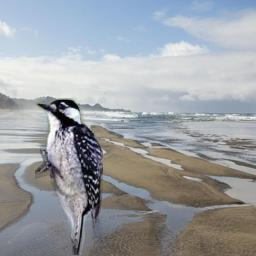Woodpecker: (35, 98, 103, 255)
